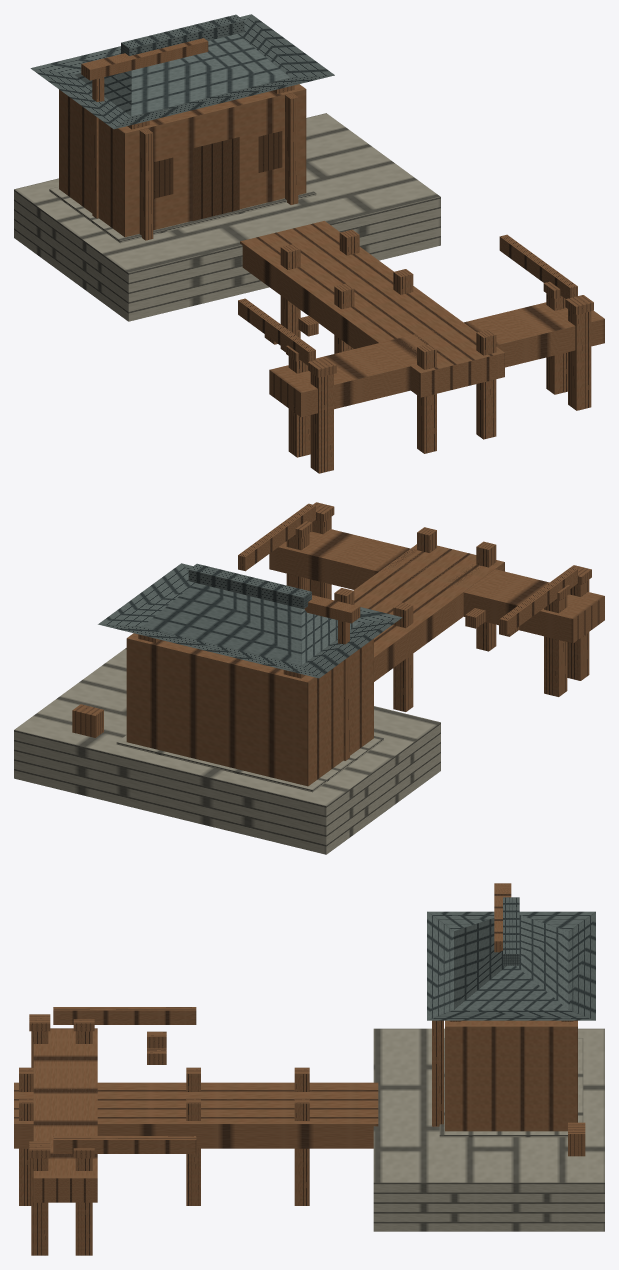
The model's file is port-lod1.glb.
3 renders of one model, top to bottom at view 1: azimuth 30°, elevation 25°; view 2: azimuth 150°, elevation 25°; view 3: azimuth 270°, elevation 25°, orthographic.
Bounding box in the file's own units: 0.74 × 0.551 × 1.2.
1 material, 1 textured.
